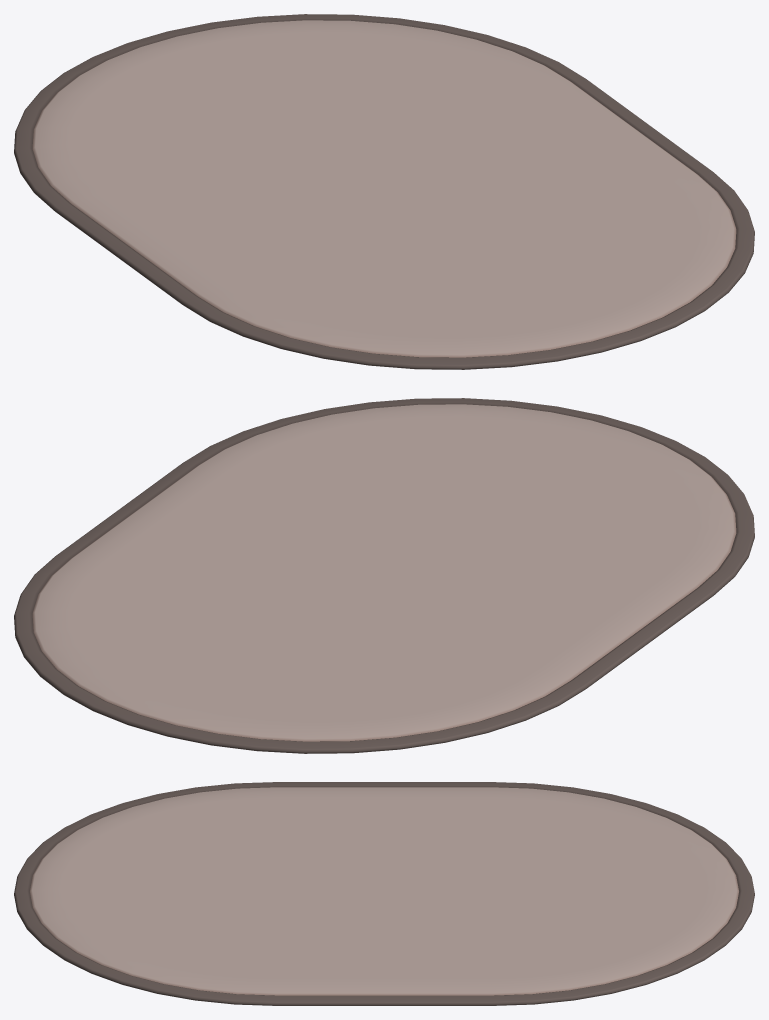
The model's file is Rug_01.glb.
3 views of the same model, one above another, from view 1: azimuth 30°, elevation 25°; view 2: azimuth 150°, elevation 25°; view 3: azimuth 270°, elevation 25° (orthographic). The views are drawn at different scales.
Parts seen in each view (by area): view 1: Rug_01; view 2: Rug_01; view 3: Rug_01.
Part boxes in pixels (x1,y1,x2,y2): Rug_01: [14, 14, 754, 369]; Rug_01: [14, 398, 754, 753]; Rug_01: [14, 782, 754, 1005].
Bounding box in the file's own units: 2.63 × 0.0403 × 3.73.
Materials: 1 (1 with a texture image).
